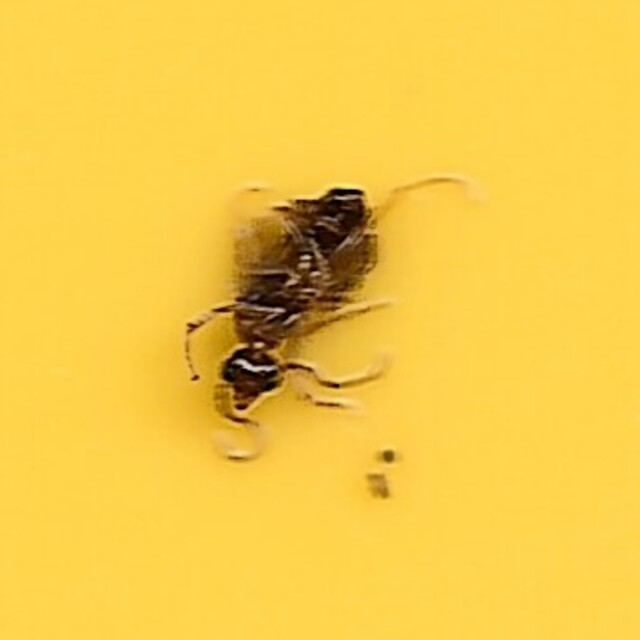Hymenoptera: (181, 171, 459, 469)
